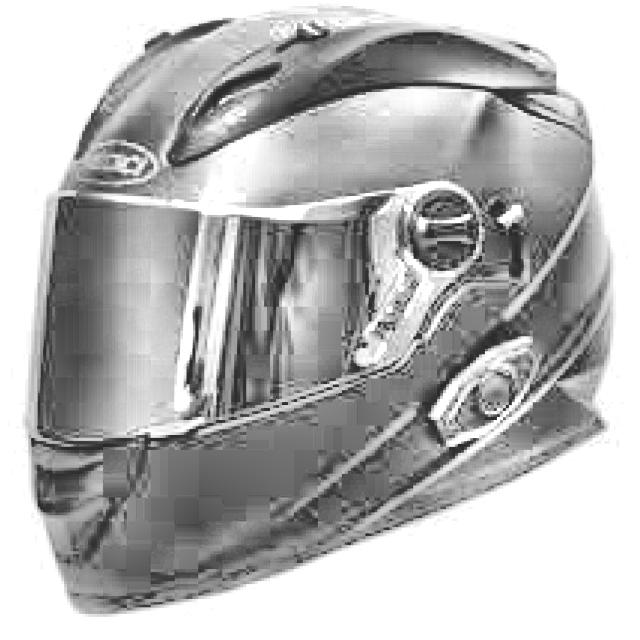Helmet: (8, 0, 640, 621)
